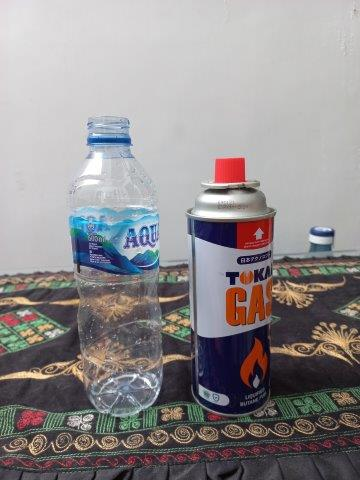botolplastik: (69, 115, 164, 418)
kaleng: (185, 159, 275, 413)
